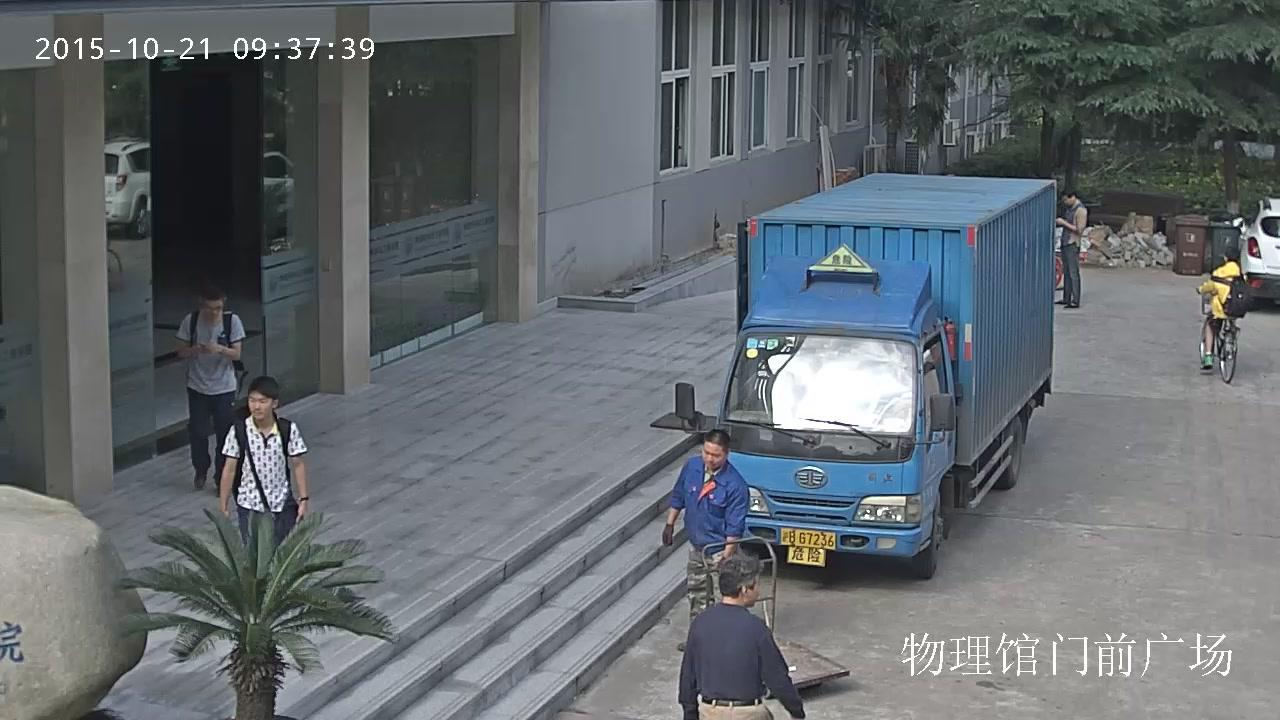person: (661, 428, 851, 699), (678, 551, 804, 720), (661, 428, 750, 651), (217, 375, 308, 554), (175, 283, 248, 491), (1194, 243, 1253, 383), (1194, 244, 1252, 371), (1054, 184, 1090, 308)
